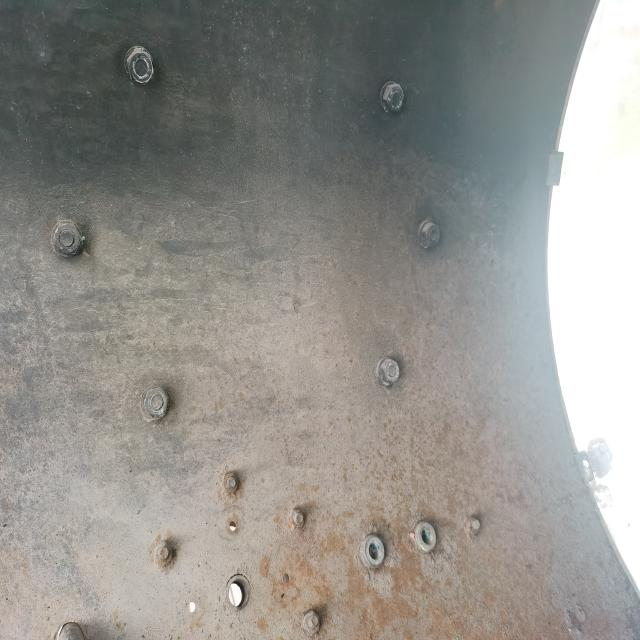bolt nut: (124, 44, 155, 88), (51, 222, 83, 257), (142, 384, 170, 422), (377, 354, 402, 388), (381, 80, 406, 114), (419, 220, 441, 249), (153, 539, 174, 569), (286, 505, 306, 533), (301, 609, 321, 636), (221, 470, 240, 496)
